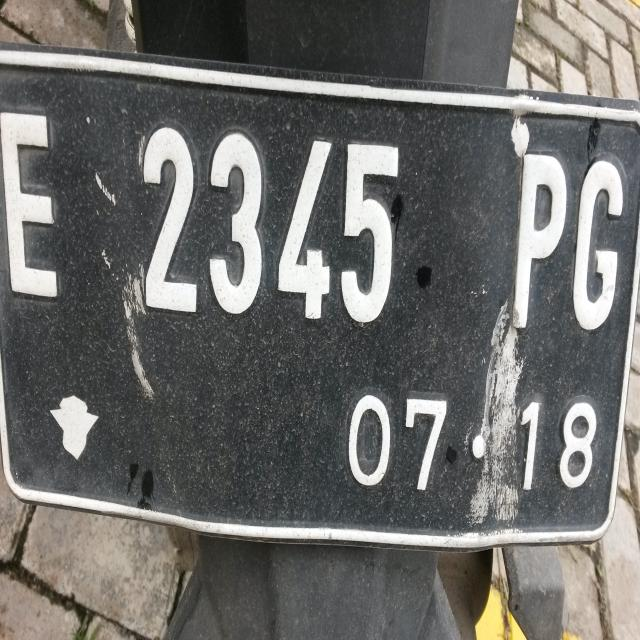plate: (1, 49, 640, 548)
